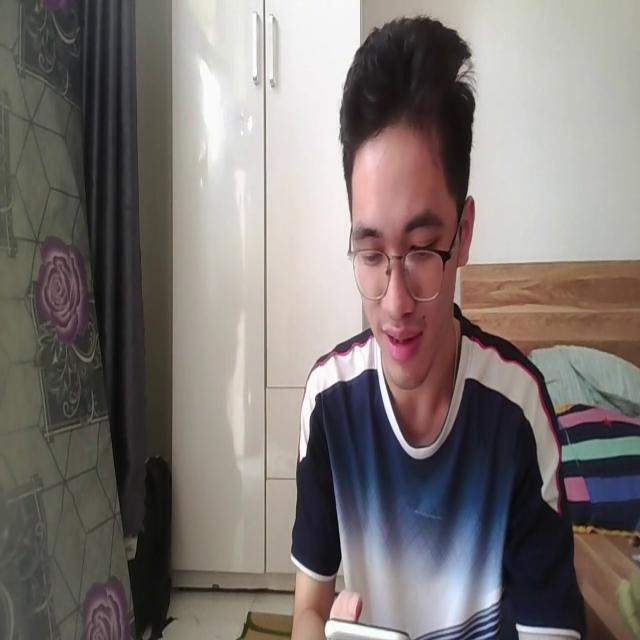student: (288, 6, 584, 640)
